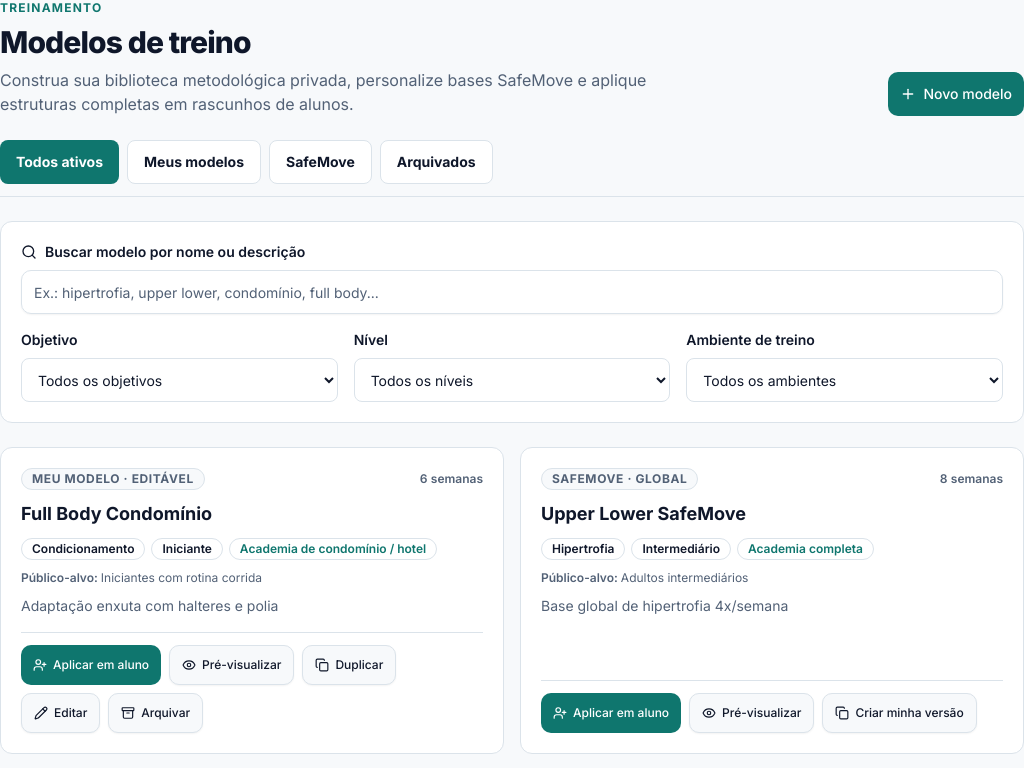
Test case: WorkoutTemplatesHub › rolls back optimistic archive and restore changes cleanly when the API fails
Later steps or results of the test are not shown.
Expected: the heading "Full Body Condomínio" is shown, x1=21 y1=503 x2=212 y2=524
Step 1. Click the button with aria-label "Arquivar Full Body Condomínio" → (156,713), box x1=108 y1=693 x2=203 y2=733
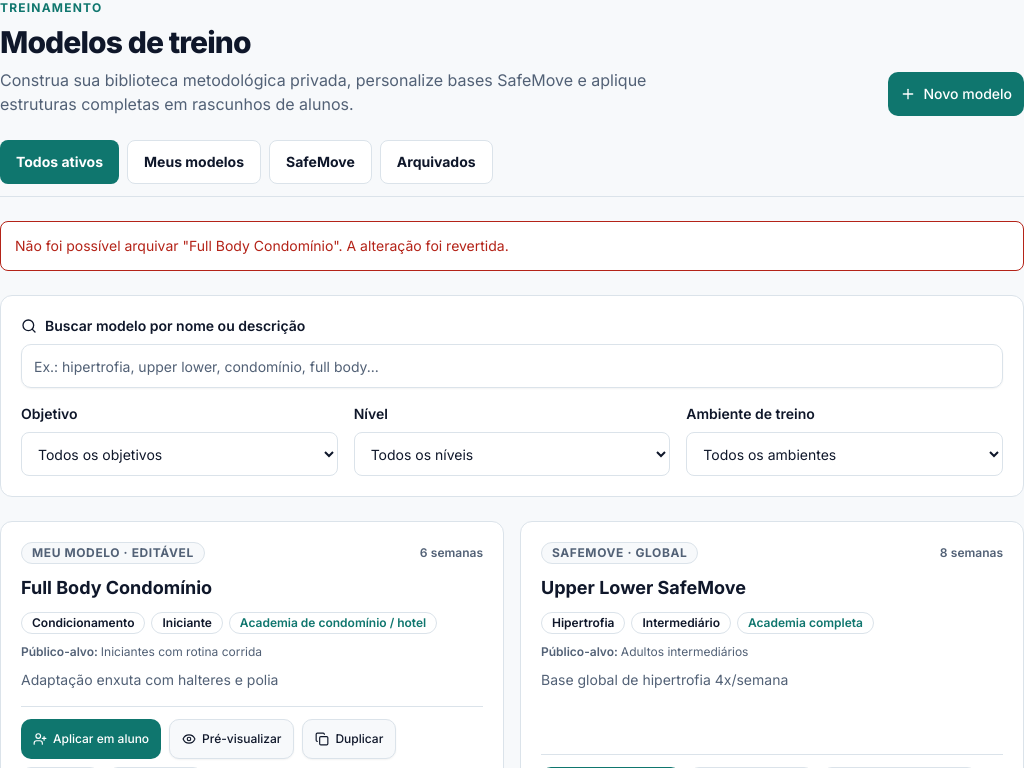
Expected: the heading "Full Body Condomínio" is shown, x1=21 y1=577 x2=212 y2=598
Expected: the text "Salvando arquivamento de \"Full Body Condomínio\"..." is shown, x1=15 y1=236 x2=509 y2=256
Expected: the message reads "Não foi possível arquivar \"Full Body Condomínio\". A alteração foi revertida.", x1=15 y1=237 x2=509 y2=254
